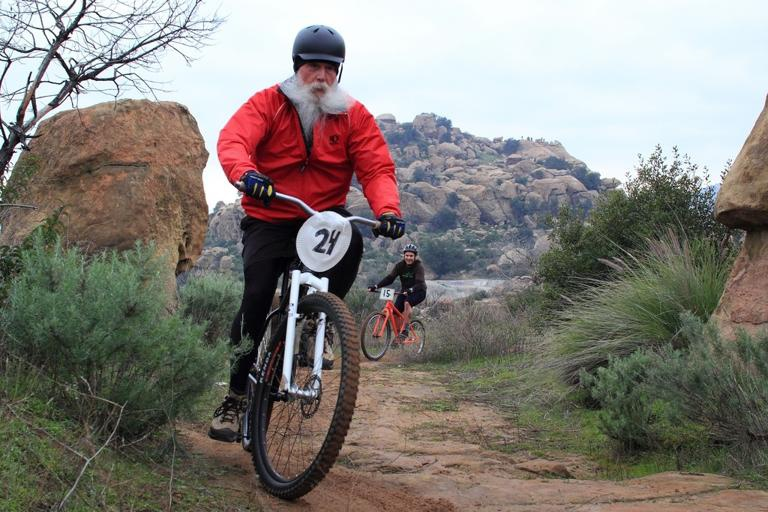non-vehicle: (235, 179, 404, 498), (360, 287, 425, 362)
